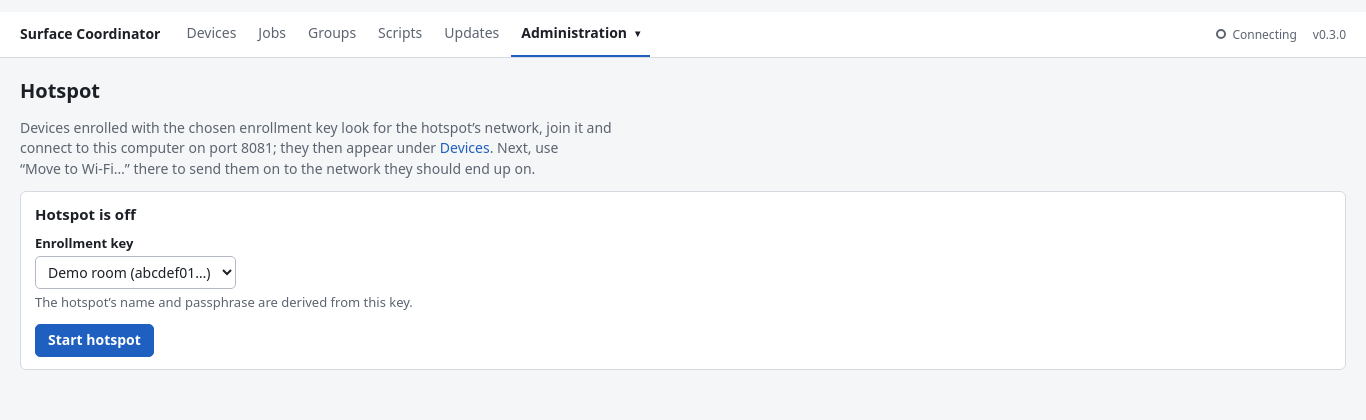
Test: Hotspot, errors › shows hotspot_failed with the reason the manager gives
Click the button "Start hotspot" at (94, 340), box [35,324,154,357]
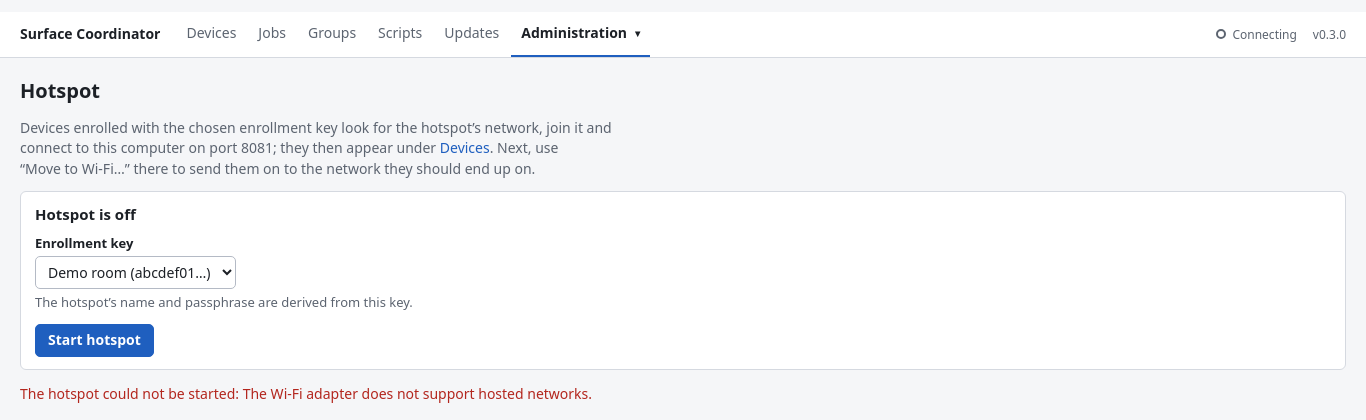
Expected: the message shows "The hotspot could not be started: The Wi-Fi adapter does not support hosted networks.", [20,384,592,403]
